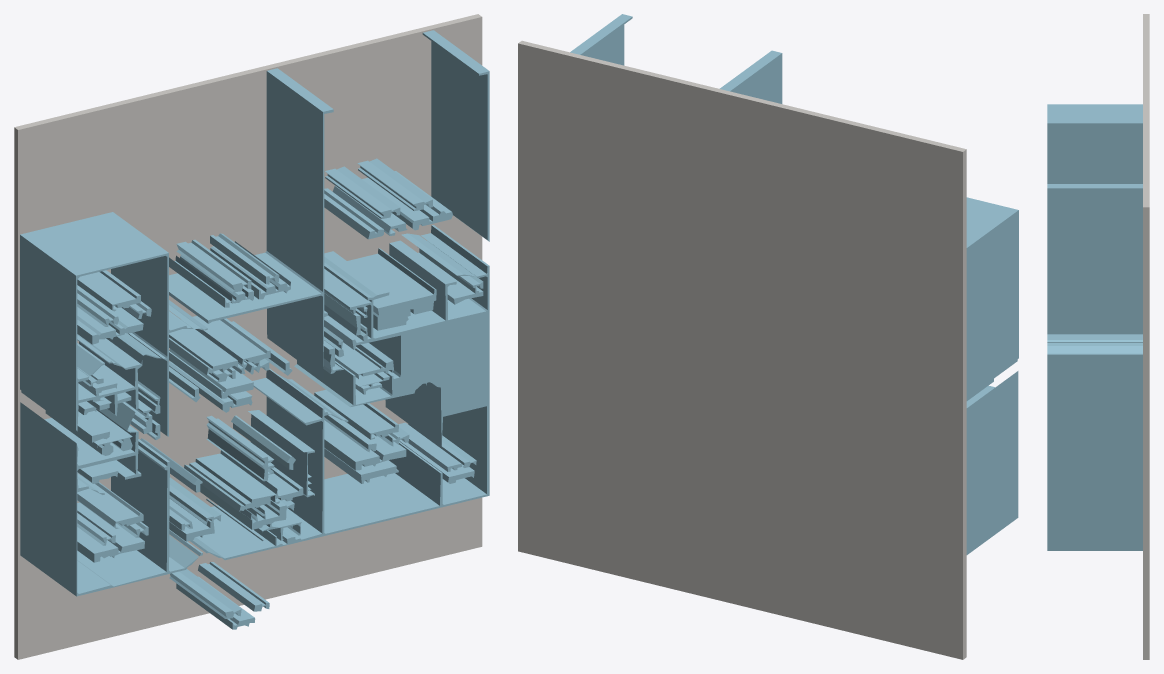
3 views of the same model, side by side, from view 1: azimuth 30°, elevation 25°; view 2: azimuth 150°, elevation 25°; view 3: azimuth 270°, elevation 25° (orthographic). The views are drawn at different scales.
Visible parts, largest first — view 1: world; view 2: world; view 3: world.
Part boxes in pixels (x1=…): world: x1=14, y1=14, x2=489, y2=659; world: x1=518, y1=14, x2=1018, y2=659; world: x1=1047, y1=14, x2=1149, y2=659.
Bounding box in the file's own units: 10.23 × 11.16 × 2.29.
